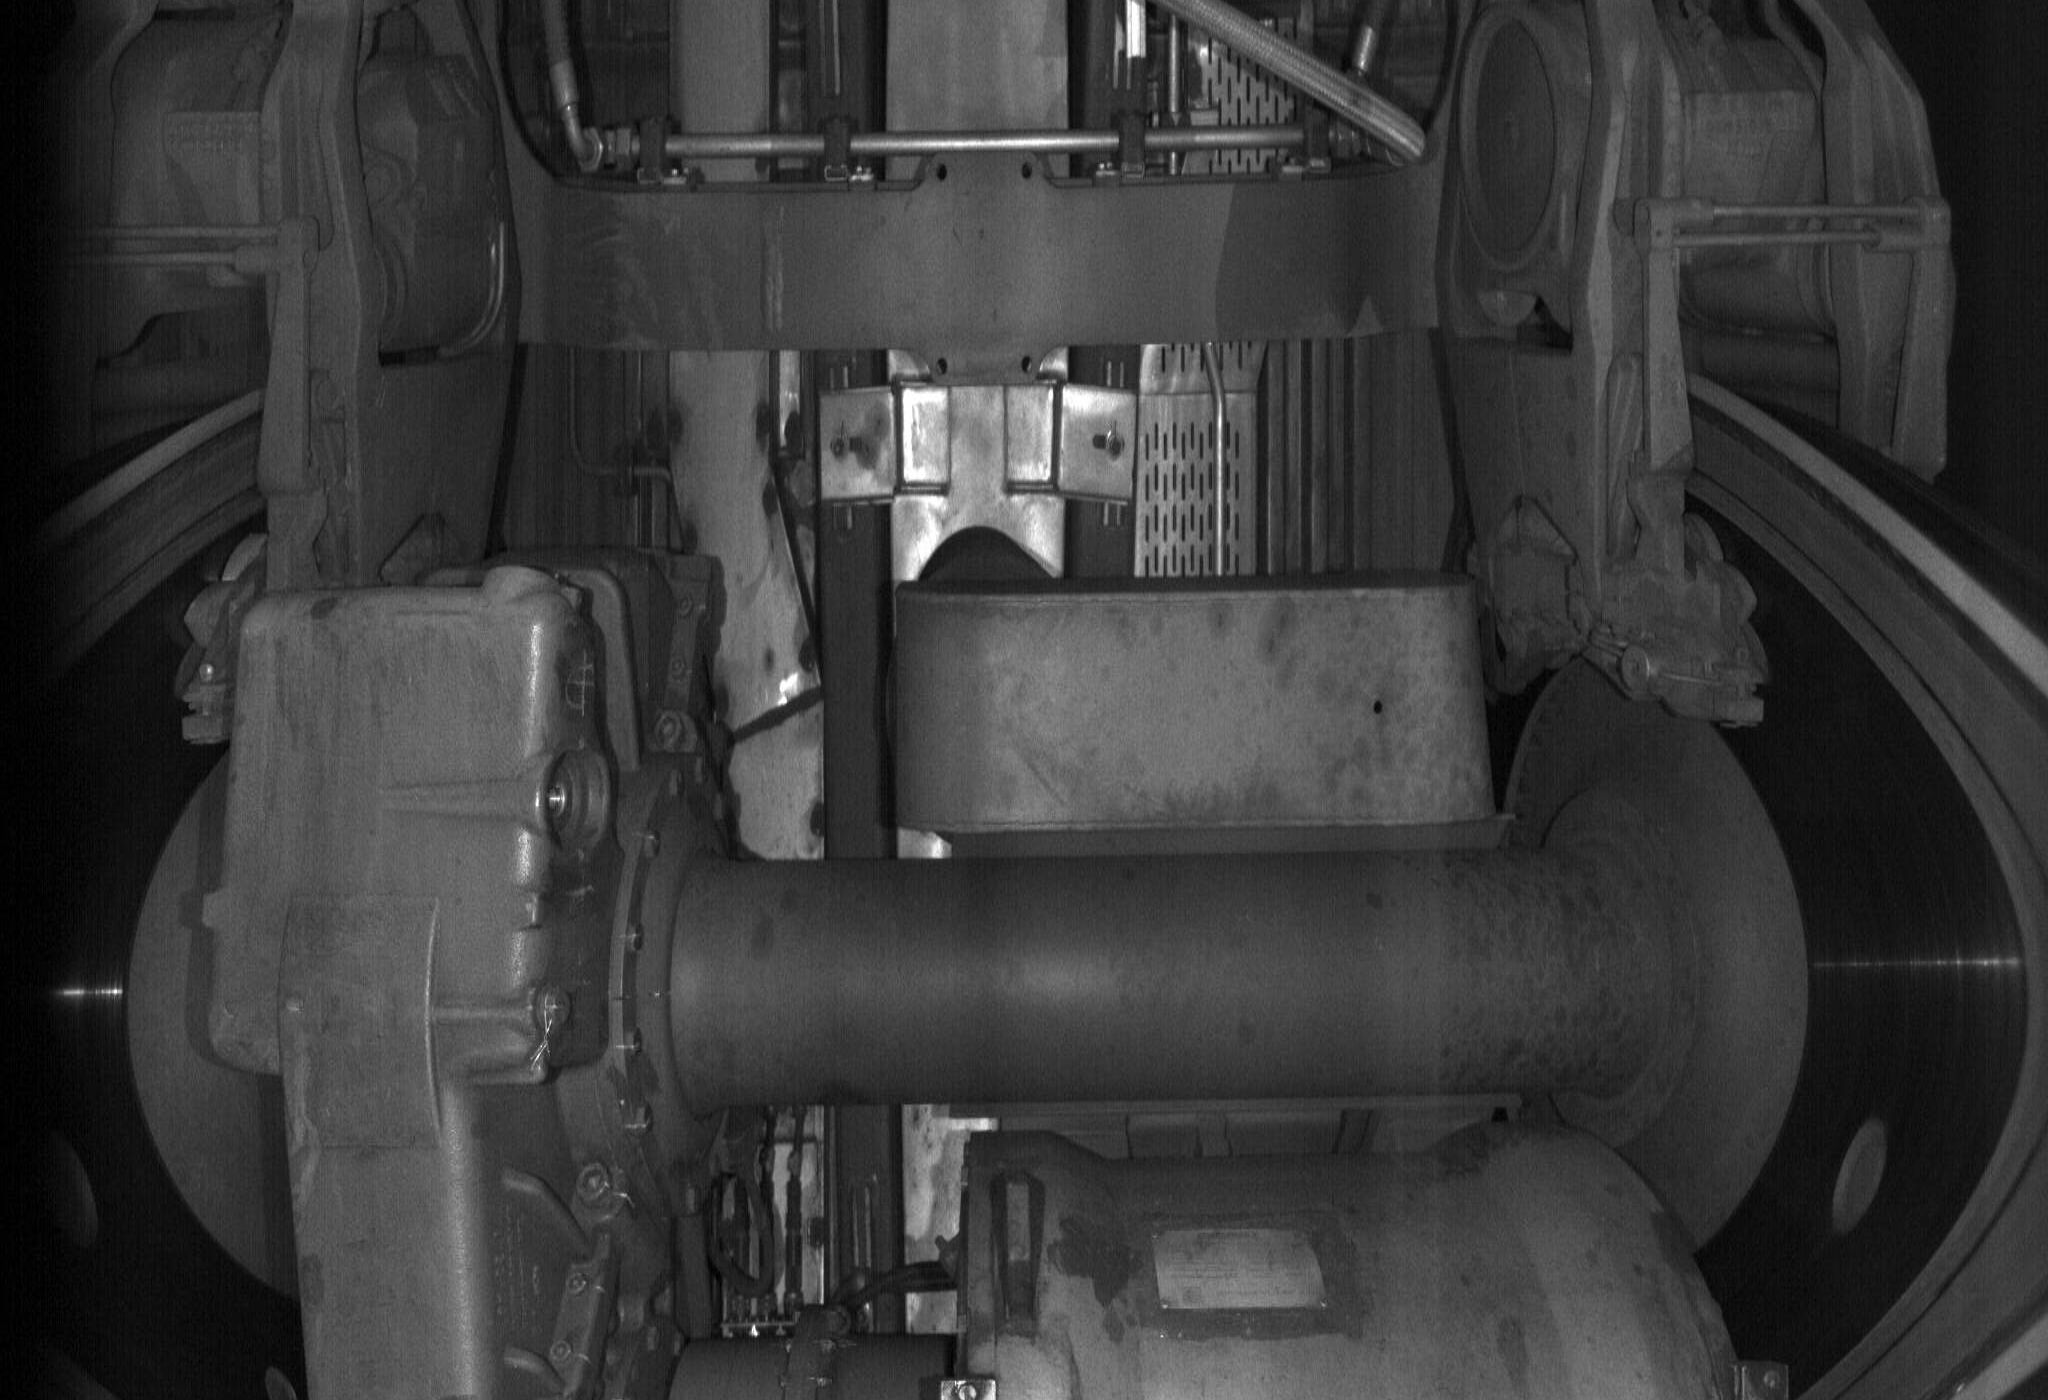area: (123, 12, 258, 215), (1689, 22, 1818, 207)
